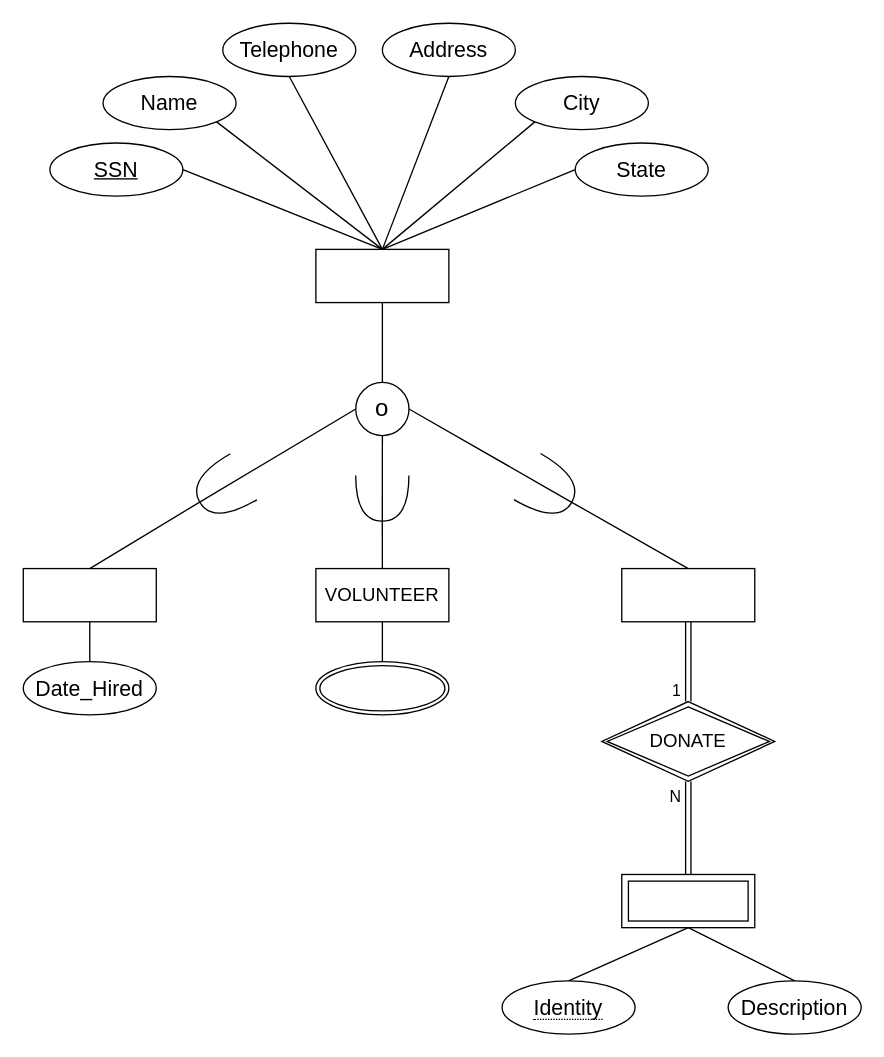
This 884x1057 diagram has some shape labels left out. The box of each missing label's shape, as (x1, y1, x2, y2) in pixels:
DONOR: (620, 567, 755, 622)
EMPLOYEE: (22, 567, 156, 622)
ITEM: (620, 873, 755, 928)
PERSON: (315, 248, 449, 303)
Skill: (315, 660, 449, 715)
